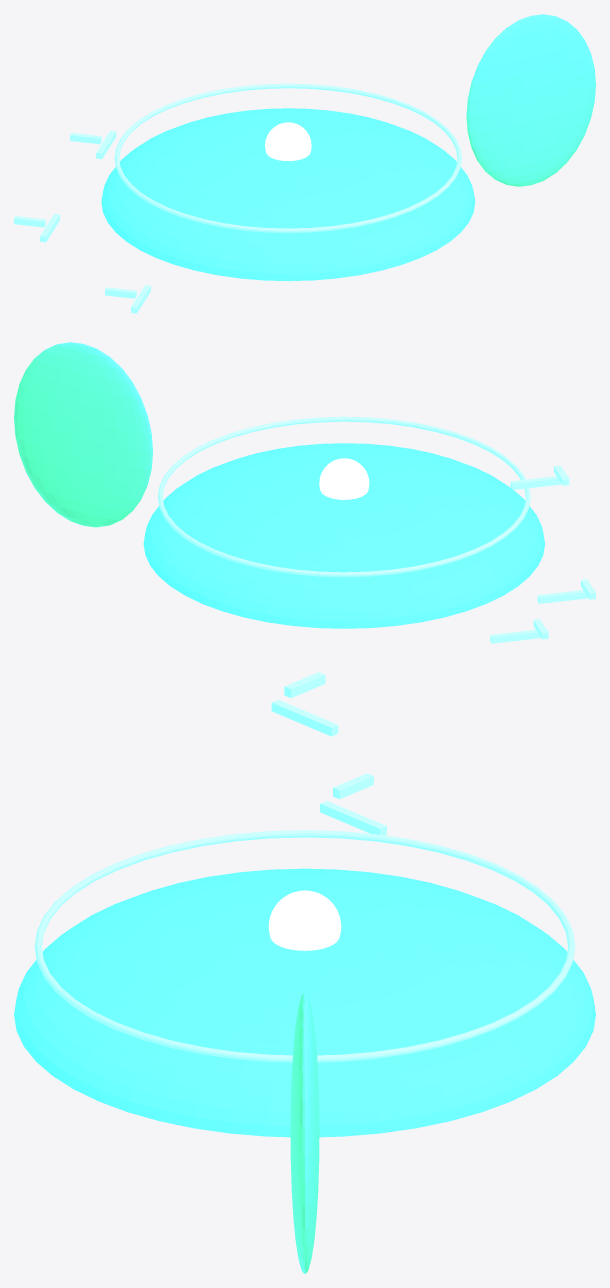
File: solution-radar.glb
3 renders of one model, top to bottom at view 1: azimuth 30°, elevation 25°; view 2: azimuth 150°, elevation 25°; view 3: azimuth 270°, elevation 25°, orthographic. The views are drawn at different scales.
Parts seen in each view (by area): view 1: Radar_Dish, Trust_Shield, Scan_Ring_2, Beacon; view 2: Radar_Dish, Trust_Shield, Scan_Ring_2, Beacon, Check_1_long, Check_0_long, Check_2_long; view 3: Radar_Dish, Scan_Ring_2, Trust_Shield, Beacon, Check_0_long, Check_1_long.
Part boxes in pixels (x1,y1,x2,y2): Radar_Dish: [101, 108, 475, 281]; Trust_Shield: [466, 14, 595, 186]; Scan_Ring_2: [114, 83, 461, 232]; Beacon: [265, 122, 311, 160]; Radar_Dish: [143, 443, 544, 628]; Trust_Shield: [14, 342, 152, 527]; Scan_Ring_2: [158, 416, 530, 577]; Beacon: [319, 458, 369, 499]; Check_1_long: [537, 589, 595, 603]; Check_0_long: [510, 475, 568, 489]; Check_2_long: [490, 628, 548, 643]; Radar_Dish: [14, 868, 595, 1137]; Scan_Ring_2: [34, 830, 575, 1062]; Trust_Shield: [290, 992, 319, 1273]; Beacon: [268, 890, 341, 950]; Check_0_long: [271, 699, 338, 736]; Check_1_long: [320, 801, 386, 835].
Size of the model in its own units: 4.16 by 1.3 by 2.4.
